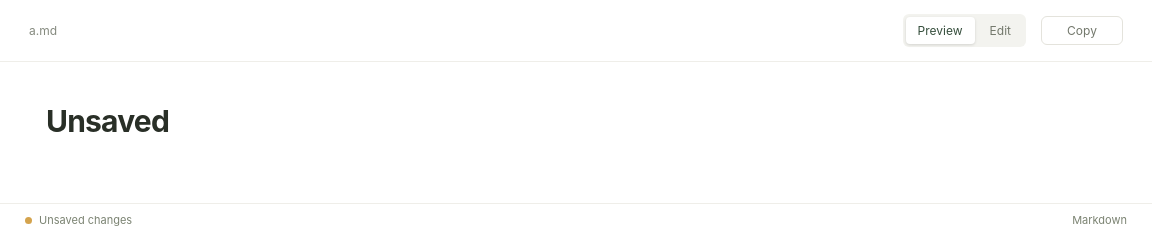
Test: copies the same live Markdown body from preview and edit modes
The image size is (1152, 243).
Later steps or results of the test are not shown.
Click the button with aria-label "Copy Markdown to clipboard". click: coordinates (1082, 30)
box: [1041, 16, 1123, 45]
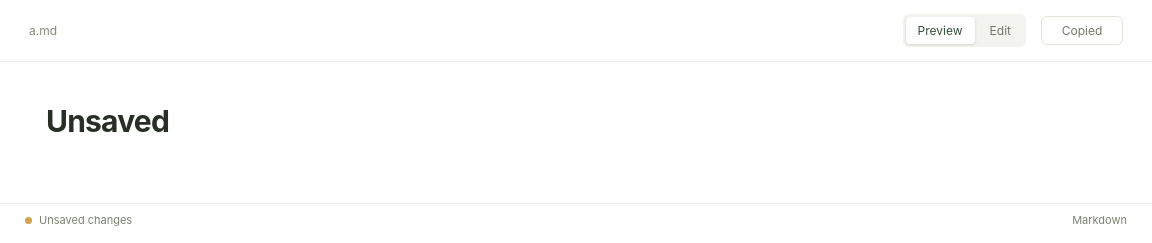
Expected: the button "Copied" is shown, [1041, 16, 1123, 45]
